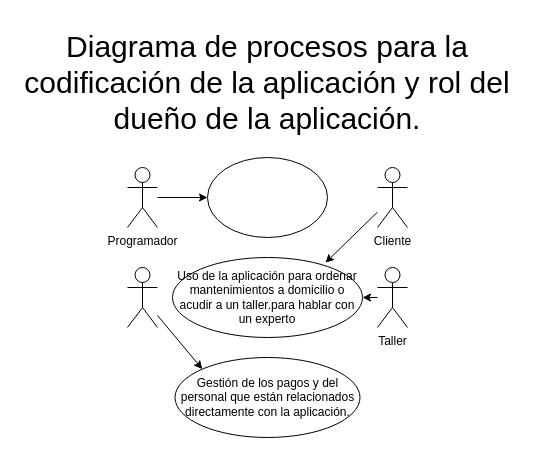
Some shapes in this 534 by 455 pixel diagram are drawn without their labels. The shapes that lost their labels are listed below. From the top down, each one's centre as x and y in pixels, then its label:
At [267,197]: "Codificación de la aplicación para conectar a los usuarios.".
At [142,297]: "Dueño".
